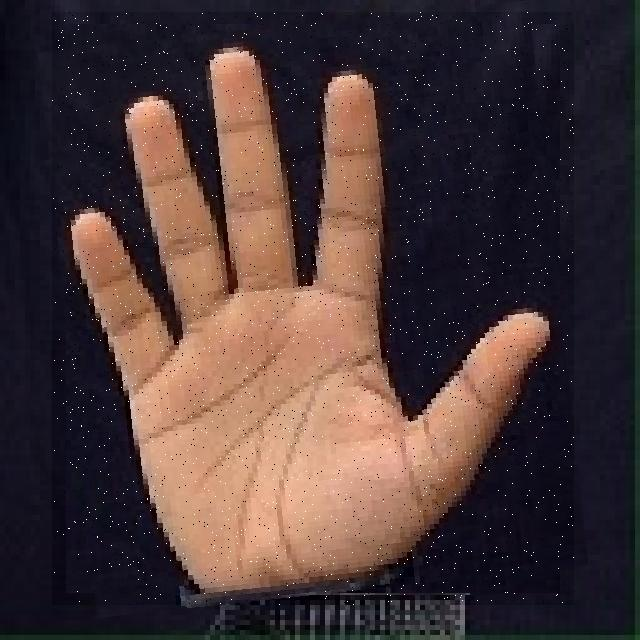Yes: (52, 12, 574, 605)
